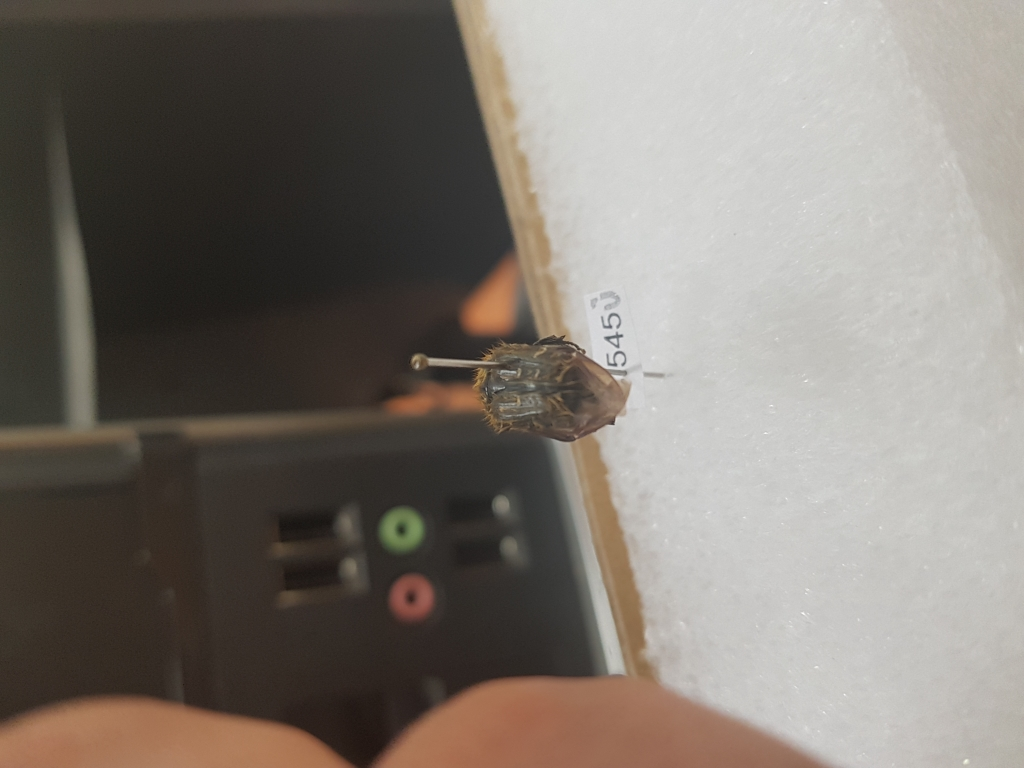Tropinota_hirta: (469, 331, 640, 442)
